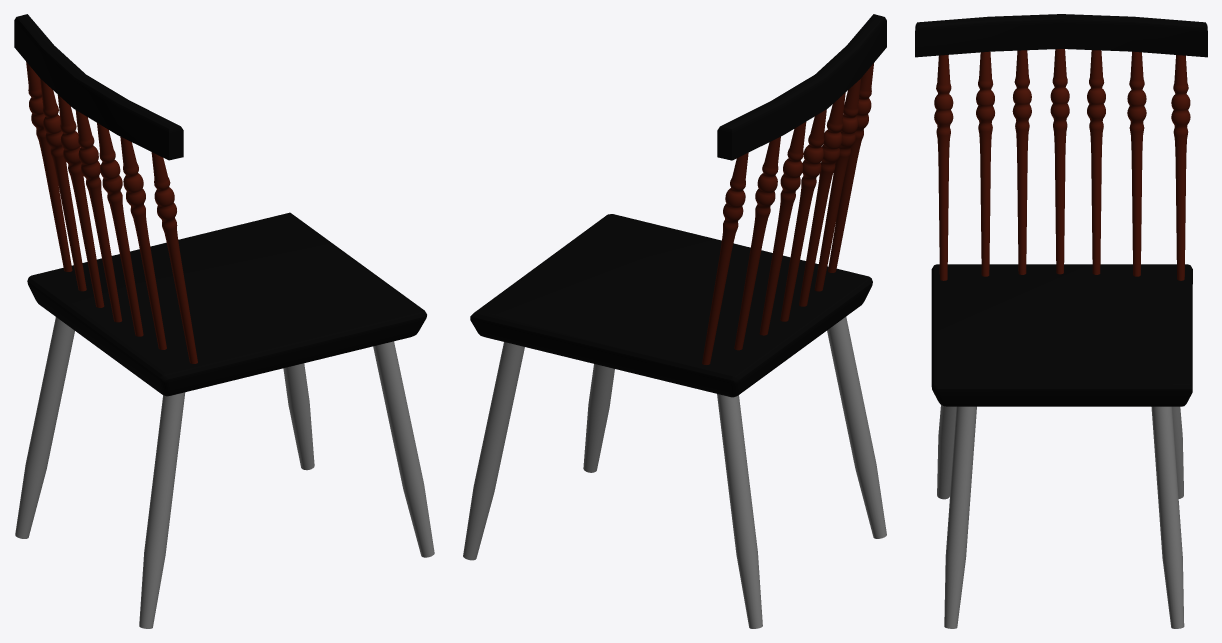
The model's file is Chair_Object.obj.
3 renders of one model, left to right at view 1: azimuth 30°, elevation 25°; view 2: azimuth 150°, elevation 25°; view 3: azimuth 270°, elevation 25°, orthographic. The views are drawn at different scales.
Parts seen in each view (by area): view 1: Seat, pCylinder16 Back_Supports pCylinder15 pCylinder14 pCylinder13 pC, pCylinder17 Legs pCylinder18 pCylinder19 pCylinder20, Headrest; view 2: Seat, pCylinder16 Back_Supports pCylinder15 pCylinder14 pCylinder13 pC, pCylinder17 Legs pCylinder18 pCylinder19 pCylinder20, Headrest; view 3: Seat, pCylinder16 Back_Supports pCylinder15 pCylinder14 pCylinder13 pC, pCylinder17 Legs pCylinder18 pCylinder19 pCylinder20, Headrest.
Part boxes in pixels (x1,y1,x2,y2): Seat: (27, 212, 426, 396); pCylinder16 Back_Supports pCylinder15 pCylinder14 pCylinder13 pC: (26, 62, 197, 363); pCylinder17 Legs pCylinder18 pCylinder19 pCylinder20: (15, 317, 434, 628); Headrest: (14, 14, 183, 160); Seat: (470, 214, 872, 397); pCylinder16 Back_Supports pCylinder15 pCylinder14 pCylinder13 pC: (702, 63, 873, 364); pCylinder17 Legs pCylinder18 pCylinder19 pCylinder20: (463, 317, 886, 628); Headrest: (717, 14, 886, 160); Seat: (931, 264, 1192, 406); pCylinder16 Back_Supports pCylinder15 pCylinder14 pCylinder13 pC: (934, 49, 1190, 280); pCylinder17 Legs pCylinder18 pCylinder19 pCylinder20: (937, 405, 1184, 628); Headrest: (915, 14, 1207, 57).
Size of the model in its own units: 62.06 by 99.85 by 55.2.
